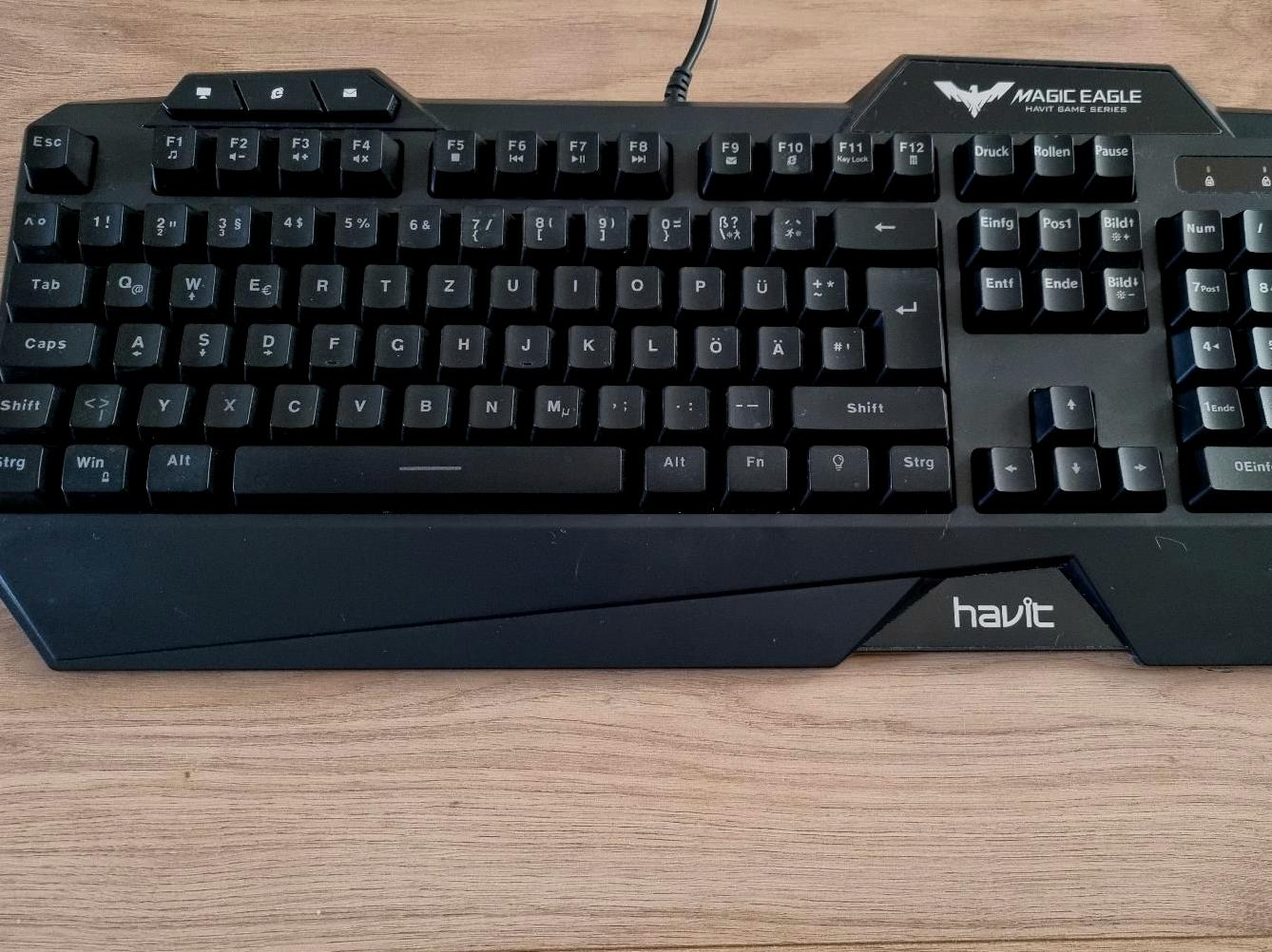0: (644, 201, 690, 249)
1: (74, 197, 123, 244)
2: (139, 198, 188, 246)
3: (207, 200, 251, 246)
4: (267, 196, 315, 245)
5: (331, 198, 377, 247)
6: (395, 200, 441, 247)
7: (456, 198, 505, 247)
8: (519, 200, 567, 249)
9: (581, 199, 628, 249)
a: (110, 318, 161, 366)
accent: (772, 203, 818, 252)
ae: (754, 321, 800, 369)
alt-left: (143, 439, 211, 491)
altgr-right: (639, 441, 706, 491)
b: (398, 380, 450, 427)
c: (266, 379, 318, 427)
caret: (11, 196, 57, 244)
comma: (594, 380, 643, 427)
d: (241, 319, 290, 366)
del: (830, 200, 935, 249)
e: (230, 258, 279, 307)
enter: (861, 262, 941, 370)
f: (307, 319, 356, 365)
g: (372, 320, 420, 367)
h: (436, 319, 485, 366)
hash: (818, 321, 863, 368)
i: (549, 260, 597, 307)
j: (501, 319, 548, 367)
k: (564, 320, 612, 367)
keyboard: (1, 105, 1272, 537)
l: (627, 320, 674, 368)
less: (66, 378, 120, 426)
m: (529, 380, 580, 428)
minus: (723, 380, 770, 427)
n: (464, 380, 514, 428)
o: (611, 260, 659, 308)
oe: (691, 321, 738, 368)
p: (676, 261, 722, 308)
plus: (800, 261, 845, 309)
point: (660, 381, 707, 427)
q: (99, 257, 150, 306)
r: (295, 259, 342, 306)
s: (176, 319, 225, 366)
shift-left: (1, 378, 55, 428)
shift-lock: (1, 318, 97, 367)
shift-right: (787, 381, 945, 428)
space: (222, 441, 625, 495)
ss: (706, 201, 752, 249)
strg-left: (1, 440, 44, 490)
strg-right: (883, 441, 951, 492)
t: (358, 258, 406, 306)
tab: (4, 258, 86, 308)
u: (487, 260, 534, 308)
ue: (738, 261, 783, 308)
v: (332, 379, 383, 427)
w: (165, 257, 215, 306)
x: (201, 379, 253, 426)
y: (134, 378, 187, 426)
z: (423, 259, 471, 306)
